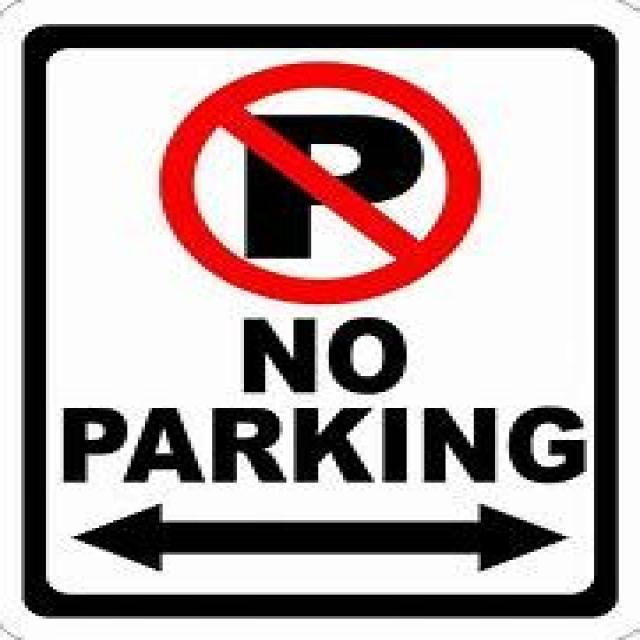NO_PARKING: (154, 56, 485, 310)
